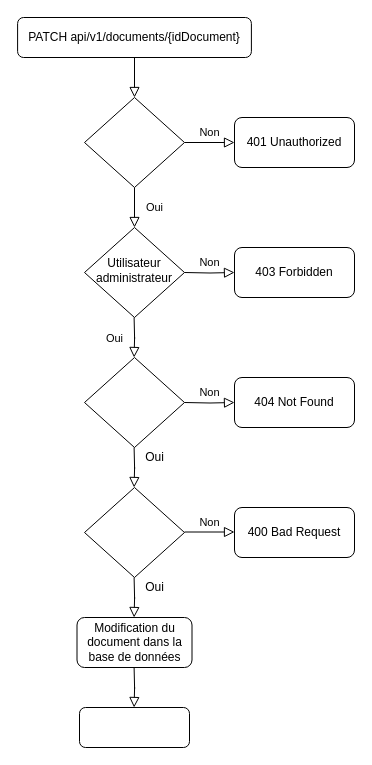
This 372x765 diagram has some shape labels left out. The shapes that lost their labels are listed below. From the top down, each one's centre as x and y in pixels, then its label:
(x=134, y=142): Header Authorization présent
(x=134, y=402): Document à modifier existant
(x=134, y=532): Validité du type de document
(x=134, y=727): 200 OK
